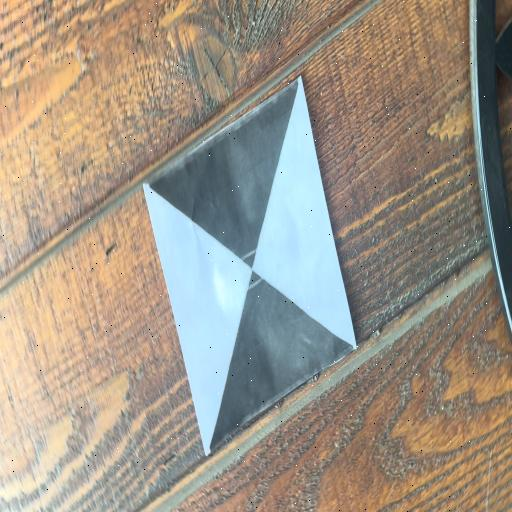target: (142, 74, 358, 456)
